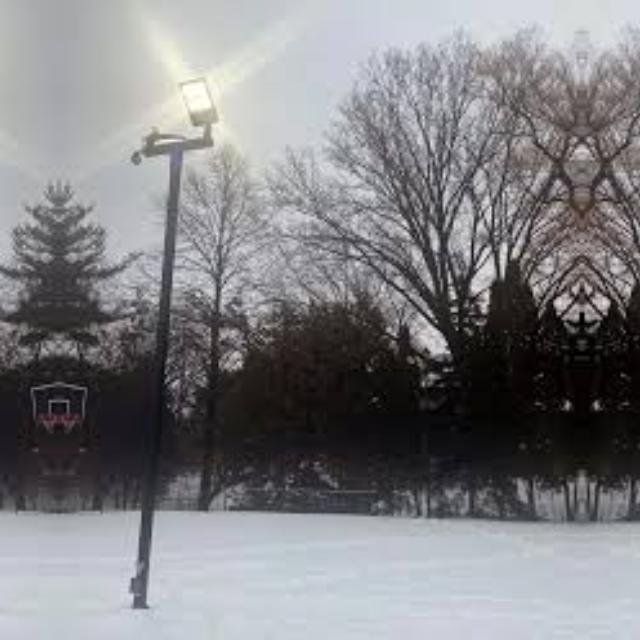person: (110, 50, 248, 640), (0, 50, 6, 640)
